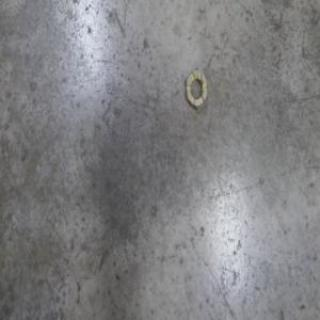Nuttrack_idkeyframe: (184, 65, 206, 109)
